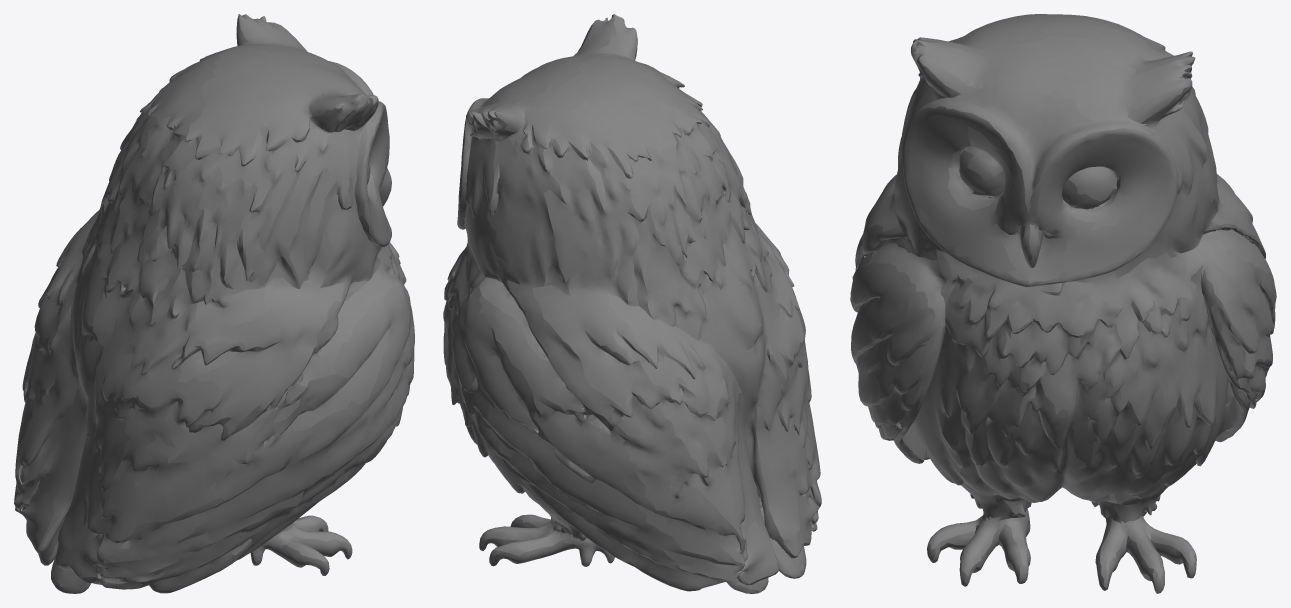
The model's file is completion_owl_0.glb.
3 renders of one model, left to right at view 1: azimuth 30°, elevation 25°; view 2: azimuth 150°, elevation 25°; view 3: azimuth 270°, elevation 25°, orthographic. The views are drawn at different scales.
Visible parts, largest first — view 1: geometry_0; view 2: geometry_0; view 3: geometry_0.
Boxes of the visible parts, x1,y1,x2,y2 form: geometry_0: [14, 14, 414, 593]; geometry_0: [443, 14, 821, 593]; geometry_0: [850, 14, 1276, 593].
Bounding box in the file's own units: 0.7313 × 0.9914 × 0.7075.
1 material, 1 textured.
